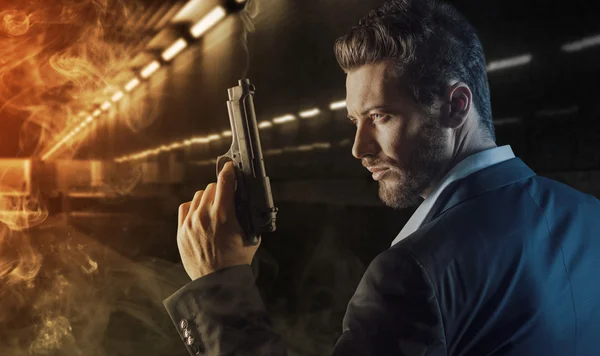knife: (216, 76, 277, 252)
